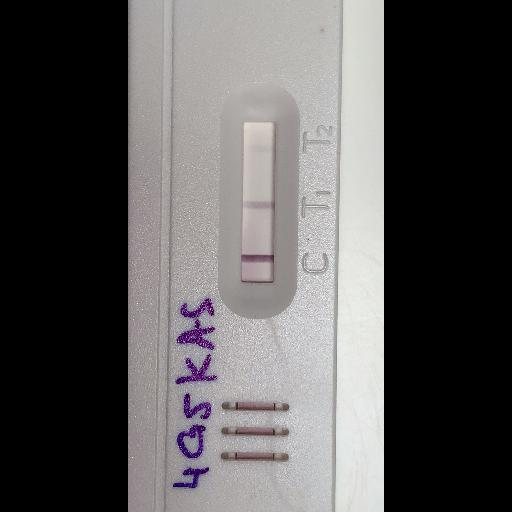Pos: (127, 0, 335, 511)
